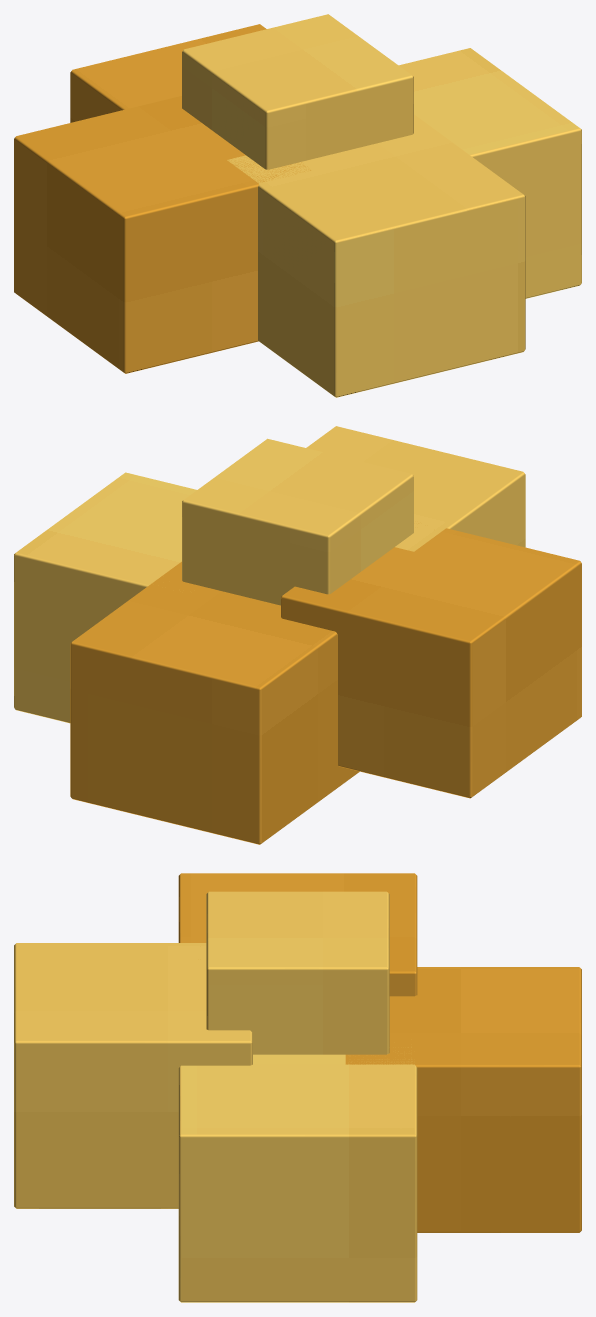
Rendered from Marigold-blossom.glb.
The picture shows the model from 3 angles, top to bottom: view 1: azimuth 30°, elevation 25°; view 2: azimuth 150°, elevation 25°; view 3: azimuth 270°, elevation 25°; orthographic projection. The views are drawn at different scales.
Parts seen in each view (by area): view 1: Marigold-blossom; view 2: Marigold-blossom; view 3: Marigold-blossom.
Boxes of the visible parts, x1,y1,x2,y2 form: Marigold-blossom: (14,14,581,397); Marigold-blossom: (14,426,581,844); Marigold-blossom: (14,873,581,1302).
Size of the model in its own units: 0.1448 by 0.0721 by 0.1455.
2 materials, 2 textured.
